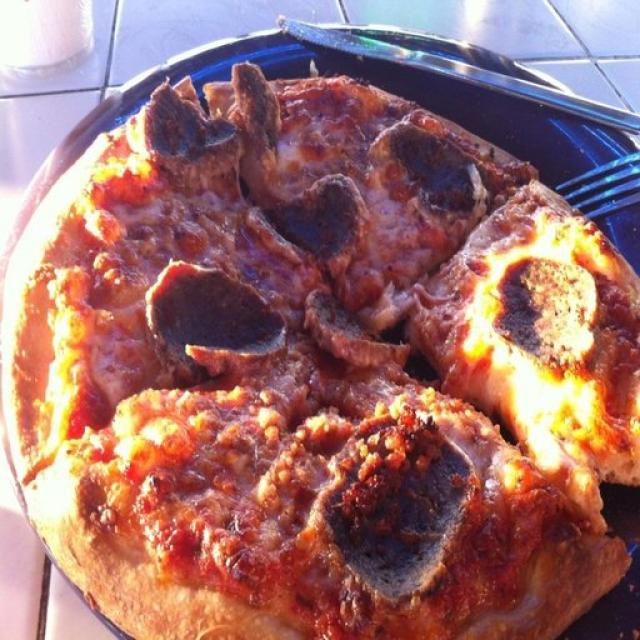Pepperoni: (332, 420, 478, 601), (152, 261, 292, 359), (494, 248, 588, 364), (384, 128, 474, 214), (267, 177, 350, 258), (147, 88, 235, 160), (229, 61, 274, 139)
Pizza: (0, 62, 640, 640)
